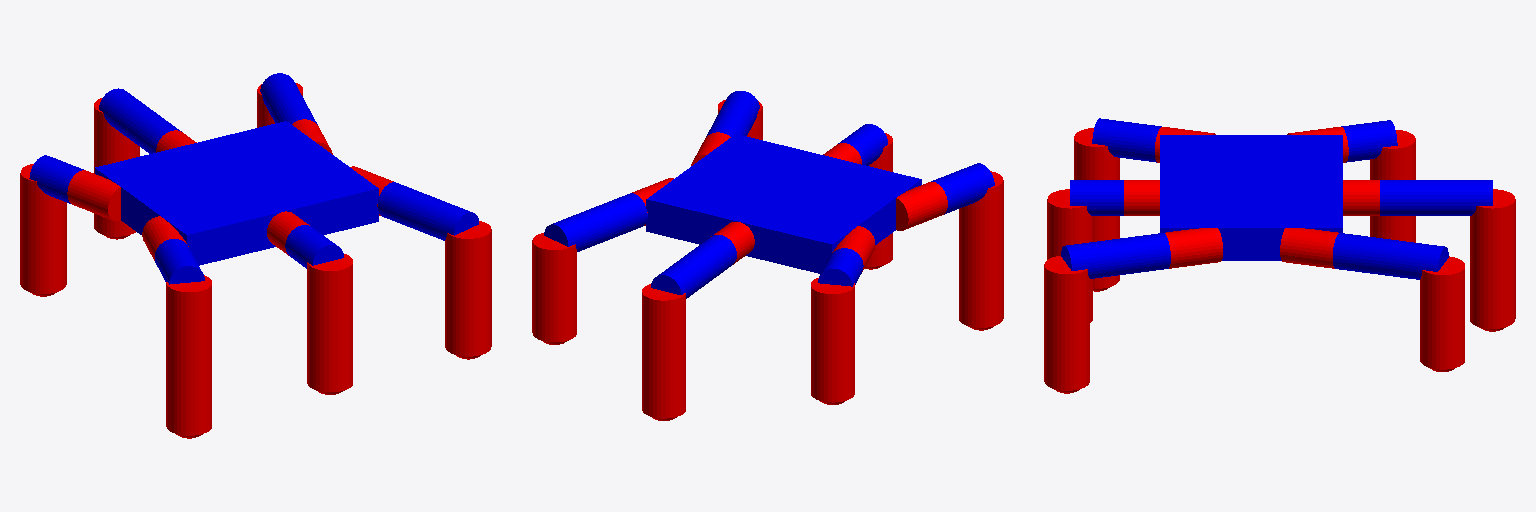
--- Render facts (derived) ---
The picture shows the robot from 3 angles, left to right: view 1: azimuth 30°, elevation 25°; view 2: azimuth 150°, elevation 25°; view 3: azimuth 270°, elevation 25°; orthographic projection.
Model pexod with 19 links and 18 joints (18 revolute), rooted at base_link, posed all joints at 0.
Links seen in each view (by area): view 1: base_link, leg_5_3, leg_4_3, leg_3_3, leg_0_3, leg_3_2, leg_1_2, leg_1_3, leg_0_1, leg_2_2, leg_4_2, leg_5_2 (+3 smaller); view 2: base_link, leg_5_3, leg_1_3, leg_0_3, leg_2_3, leg_2_2, leg_1_2, leg_5_1, leg_5_2, leg_3_2, leg_0_2, leg_4_2 (+3 smaller); view 3: base_link, leg_1_3, leg_3_3, leg_2_3, leg_1_2, leg_2_2, leg_3_2, leg_0_3, leg_5_3, leg_4_3, leg_5_2, leg_2_1 (+5 smaller).
Boxes of the visible links, box(x1,y1,x2,y2) form: base_link: box(95, 121, 378, 265); leg_5_3: box(166, 275, 211, 438); leg_4_3: box(307, 254, 352, 394); leg_3_3: box(445, 221, 491, 359); leg_0_3: box(20, 164, 66, 296); leg_3_2: box(378, 182, 478, 240); leg_1_2: box(99, 88, 181, 153); leg_1_3: box(94, 98, 139, 239); leg_0_1: box(67, 170, 120, 220); leg_2_2: box(260, 73, 317, 124); leg_4_2: box(285, 225, 343, 268); leg_5_2: box(155, 239, 204, 284); base_link: box(646, 134, 921, 273); leg_5_3: box(959, 171, 1003, 330); leg_1_3: box(642, 284, 685, 420); leg_0_3: box(811, 278, 854, 404); leg_2_3: box(532, 233, 576, 344); leg_2_2: box(544, 193, 647, 251); leg_1_2: box(651, 235, 736, 298); leg_5_1: box(896, 182, 947, 230); leg_5_2: box(931, 163, 994, 214); leg_3_2: box(706, 91, 759, 136); leg_0_2: box(818, 248, 863, 286); leg_4_2: box(838, 124, 887, 165); base_link: box(1160, 135, 1342, 260); leg_1_3: box(1470, 189, 1515, 331); leg_3_3: box(1044, 256, 1089, 393); leg_2_3: box(1420, 256, 1464, 371); leg_1_2: box(1380, 180, 1492, 215); leg_2_2: box(1333, 233, 1448, 279); leg_3_2: box(1061, 233, 1170, 278); leg_0_3: box(1370, 130, 1415, 242); leg_5_3: box(1074, 128, 1119, 291); leg_4_3: box(1047, 189, 1092, 322); leg_5_2: box(1092, 118, 1161, 162); leg_2_1: box(1280, 228, 1338, 268).
Bounding box of the posed robot: 0.3821 × 0.5157 × 0.2039 m (x, y, z).
Geometry: primitives only (box / cylinder / sphere), no mesh files.

robot.urdf — pexod:
<?xml version="1.0" ?>
<!-- =================================================================================== -->
<!-- |    This document was autogenerated by xacro from pexod.xacro                    | -->
<!-- |    EDITING THIS FILE BY HAND IS NOT RECOMMENDED                                 | -->
<!-- =================================================================================== -->
<robot name="pexod" xmlns:xacro="http://www.ros.org/wiki/xacro">
  <!-- <xacro:include filename="$(find pexod_description)/urdf/pexod_control.xacro" /> -->
  <!-- MATERIALS -->
  <material name="Blue">
    <color rgba="0 0 1 1"/>
  </material>
  <material name="Red">
    <color rgba="1 0 0 1"/>
  </material>
  <material name="Green">
    <color rgba="0 1 0 1"/>
  </material>
  <material name="Yellow">
    <color rgba="1 1 0 1"/>
  </material>
  <material name="LightGrey">
    <color rgba="0.6 0.6 0.6 1.0"/>
  </material>
  <!-- END OF MATERIALS -->
  <!-- XACRO MACROS FOR VISUALS AND COLLISIONS -->
  <!-- END OF XACRO MACROS -->
  <!-- TORSO -->
  <link name="base_link">
    <visual>
      <origin rpy="0 0 0" xyz="0 0 0"/>
      <geometry>
        <box size="0.24 0.2 0.04"/>
      </geometry>
      <material name="Blue"/>
    </visual>
    <collision>
      <origin rpy="0 0 0" xyz="0 0 0"/>
      <geometry>
        <box size="0.24 0.2 0.04"/>
      </geometry>
    </collision>
    <inertial>
      <!-- CENTER OF MASS -->
      <origin rpy="0 0 0" xyz="0 0 0"/>
      <mass value="1.031"/>
      <!-- box inertia: 1/12*m(y^2+z^2), ... -->
      <inertia ixx="0.00357413333333" ixy="0" ixz="0" iyy="0.00508626666667" iyz="0" izz="0.00838546666667"/>
    </inertial>
  </link>
  <!-- XACRO MACRO FOR LEGS LINKS/JOINTS -->
  <!-- END OF LEG LINKS/JOINTS -->
  <joint name="body_leg_2" type="revolute">
    <parent link="base_link"/>
    <child link="leg_2_1"/>
    <limit effort="30.0" lower="-1.57079632679" upper="1.57079632679" velocity="7.0"/>
    <origin rpy="0 0 -0.3" xyz="0.11 0.04 0"/>
    <!-- <xacro:if value="${index == 5 or index == 4 or index == 3}">
                <axis xyz="0 0 1"/>
            </xacro:if>
            <xacro:if value="${index == 2 or index == 1 or index == 0}"> -->
    <axis xyz="0 0 1"/>
    <!-- </xacro:if> -->
    <dynamics damping="0.0"/>
  </joint>
  <link name="leg_2_1">
    <visual>
      <origin rpy="1.57079632679 0 0" xyz="0.01 0.03 0"/>
      <geometry>
        <cylinder length="0.06" radius="0.02"/>
      </geometry>
      <material name="Red"/>
    </visual>
    <collision>
      <origin rpy="1.57079632679 0 0" xyz="0.01 0.03 0"/>
      <geometry>
        <box size="0.02 0.02 0.06"/>
      </geometry>
    </collision>
    <inertial>
      <!-- CENTER OF MASS -->
      <origin rpy="1.57079632679 0 0" xyz="0.01 0.03 0"/>
      <mass value="0.02"/>
      <!-- box inertia: 1/12*m(y^2+z^2), ... -->
      <inertia ixx="6.66666666667e-06" ixy="0" ixz="0" iyy="6.66666666667e-06" iyz="0" izz="1.33333333333e-06"/>
    </inertial>
  </link>
  <joint name="leg_2_1_2" type="revolute">
    <parent link="leg_2_1"/>
    <child link="leg_2_2"/>
    <limit effort="30.0" lower="-0.78539816339" upper="0.78539816339" velocity="7.0"/>
    <origin rpy="0 0 0" xyz="0 0.06 0"/>
    <axis xyz="1 0 0"/>
    <dynamics damping="0.0"/>
  </joint>
  <link name="leg_2_2">
    <visual>
      <origin rpy="1.57079632679 0 0" xyz="0.01 0.0604545558265 0"/>
      <geometry>
        <cylinder length="0.120909111653" radius="0.02"/>
      </geometry>
      <material name="Blue"/>
    </visual>
    <collision>
      <origin rpy="1.57079632679 0 0" xyz="0.01 0.0604545558265 0"/>
      <geometry>
        <box size="0.02 0.02 0.120909111653"/>
      </geometry>
    </collision>
    <inertial>
      <!-- CENTER OF MASS -->
      <origin rpy="1.57079632679 0 0" xyz="0.01 0.0604545558265 0"/>
      <mass value="0.184"/>
      <!-- box inertia: 1/12*m(y^2+z^2), ... -->
      <inertia ixx="0.000230291536971" ixy="0" ixz="0" iyy="0.000230291536971" iyz="0" izz="1.22666666667e-05"/>
    </inertial>
  </link>
  <joint name="leg_2_2_3" type="revolute">
    <parent link="leg_2_2"/>
    <child link="leg_2_3"/>
    <limit effort="30.0" lower="-0.78539816339" upper="0.78539816339" velocity="7.0"/>
    <origin rpy="-1.57079632679 0 0" xyz="0 0.120909111653 0"/>
    <axis xyz="-1 0 0"/>
    <dynamics damping="0.0"/>
  </joint>
  <link name="leg_2_3">
    <visual>
      <origin rpy="1.57079632679 0 0" xyz="0.0125 0.057009368967 0"/>
      <geometry>
        <cylinder length="0.114018737934" radius="0.025"/>
      </geometry>
      <material name="Red"/>
    </visual>
    <visual>
      <origin rpy="1.57079632679 0 0" xyz="0.0125 0.101518737934 0"/>
      <geometry>
        <sphere radius="0.025"/>
      </geometry>
      <material name="Red"/>
    </visual>
    <collision>
      <origin rpy="1.57079632679 0 0" xyz="0.0125 0.057009368967 0"/>
      <geometry>
        <box size="0.025 0.025 0.114018737934"/>
      </geometry>
    </collision>
    <collision>
      <origin rpy="1.57079632679 0 0" xyz="0.0125 0.101518737934 0"/>
      <geometry>
        <sphere radius="0.025"/>
      </geometry>
      <material name="Red"/>
    </collision>
    <inertial>
      <!-- CENTER OF MASS -->
      <origin rpy="1.57079632679 0 0" xyz="0.0125 0.057009368967 0"/>
      <mass value="0.04"/>
      <!-- box inertia: 1/12*m(y^2+z^2), ... -->
      <inertia ixx="4.54175753335e-05" ixy="0" ixz="0" iyy="4.54175753335e-05" iyz="0" izz="4.16666666667e-06"/>
    </inertial>
  </link>
  <joint name="body_leg_3" type="revolute">
    <parent link="base_link"/>
    <child link="leg_3_1"/>
    <limit effort="30.0" lower="-1.57079632679" upper="1.57079632679" velocity="7.0"/>
    <origin rpy="0 0 0.3" xyz="0.11 -0.04 0"/>
    <!-- <xacro:if value="${index == 5 or index == 4 or index == 3}">
                <axis xyz="0 0 1"/>
            </xacro:if>
            <xacro:if value="${index == 2 or index == 1 or index == 0}"> -->
    <axis xyz="0 0 1"/>
    <!-- </xacro:if> -->
    <dynamics damping="0.0"/>
  </joint>
  <link name="leg_3_1">
    <visual>
      <origin rpy="1.57079632679 0 0" xyz="0.01 -0.03 0"/>
      <geometry>
        <cylinder length="0.06" radius="0.02"/>
      </geometry>
      <material name="Red"/>
    </visual>
    <collision>
      <origin rpy="1.57079632679 0 0" xyz="0.01 -0.03 0"/>
      <geometry>
        <box size="0.02 0.02 0.06"/>
      </geometry>
    </collision>
    <inertial>
      <!-- CENTER OF MASS -->
      <origin rpy="1.57079632679 0 0" xyz="0.01 -0.03 0"/>
      <mass value="0.02"/>
      <!-- box inertia: 1/12*m(y^2+z^2), ... -->
      <inertia ixx="6.66666666667e-06" ixy="0" ixz="0" iyy="6.66666666667e-06" iyz="0" izz="1.33333333333e-06"/>
    </inertial>
  </link>
  <joint name="leg_3_1_2" type="revolute">
    <parent link="leg_3_1"/>
    <child link="leg_3_2"/>
    <limit effort="30.0" lower="-0.78539816339" upper="0.78539816339" velocity="7.0"/>
    <origin rpy="0 0 0" xyz="0 -0.06 0"/>
    <axis xyz="-1 0 0"/>
    <dynamics damping="0.0"/>
  </joint>
  <link name="leg_3_2">
    <visual>
      <origin rpy="1.57079632679 0 0" xyz="0.01 -0.056712124342 0"/>
      <geometry>
        <cylinder length="0.113424248684" radius="0.02"/>
      </geometry>
      <material name="Blue"/>
    </visual>
    <collision>
      <origin rpy="1.57079632679 0 0" xyz="0.01 -0.056712124342 0"/>
      <geometry>
        <box size="0.02 0.02 0.113424248684"/>
      </geometry>
    </collision>
    <inertial>
      <!-- CENTER OF MASS -->
      <origin rpy="1.57079632679 0 0" xyz="0.01 -0.056712124342 0"/>
      <mass value="0.184"/>
      <!-- box inertia: 1/12*m(y^2+z^2), ... -->
      <inertia ixx="0.000203397589573" ixy="0" ixz="0" iyy="0.000203397589573" iyz="0" izz="1.22666666667e-05"/>
    </inertial>
  </link>
  <joint name="leg_3_2_3" type="revolute">
    <parent link="leg_3_2"/>
    <child link="leg_3_3"/>
    <limit effort="30.0" lower="-0.78539816339" upper="0.78539816339" velocity="7.0"/>
    <origin rpy="1.57079632679 0 0" xyz="0 -0.113424248684 0"/>
    <axis xyz="1 0 0"/>
    <dynamics damping="0.0"/>
  </joint>
  <link name="leg_3_3">
    <visual>
      <origin rpy="1.57079632679 0 0" xyz="0.0125 -0.0703316468675 0"/>
      <geometry>
        <cylinder length="0.140663293735" radius="0.025"/>
      </geometry>
      <material name="Red"/>
    </visual>
    <visual>
      <origin rpy="1.57079632679 0 0" xyz="0.0125 -0.128163293735 0"/>
      <geometry>
        <sphere radius="0.025"/>
      </geometry>
      <material name="Red"/>
    </visual>
    <collision>
      <origin rpy="1.57079632679 0 0" xyz="0.0125 -0.0703316468675 0"/>
      <geometry>
        <box size="0.025 0.025 0.140663293735"/>
      </geometry>
    </collision>
    <collision>
      <origin rpy="1.57079632679 0 0" xyz="0.0125 -0.128163293735 0"/>
      <geometry>
        <sphere radius="0.025"/>
      </geometry>
      <material name="Red"/>
    </collision>
    <inertial>
      <!-- CENTER OF MASS -->
      <origin rpy="1.57079632679 0 0" xyz="0.0125 -0.0703316468675 0"/>
      <mass value="0.04"/>
      <!-- box inertia: 1/12*m(y^2+z^2), ... -->
      <inertia ixx="6.80372073479e-05" ixy="0" ixz="0" iyy="6.80372073479e-05" iyz="0" izz="4.16666666667e-06"/>
    </inertial>
  </link>
  <joint name="body_leg_0" type="revolute">
    <parent link="base_link"/>
    <child link="leg_0_1"/>
    <limit effort="30.0" lower="-1.57079632679" upper="1.57079632679" velocity="7.0"/>
    <origin rpy="0 0 0.3" xyz="-0.13 0.04 0"/>
    <!-- <xacro:if value="${index == 5 or index == 4 or index == 3}">
                <axis xyz="0 0 1"/>
            </xacro:if>
            <xacro:if value="${index == 2 or index == 1 or index == 0}"> -->
    <axis xyz="0 0 1"/>
    <!-- </xacro:if> -->
    <dynamics damping="0.0"/>
  </joint>
  <link name="leg_0_1">
    <visual>
      <origin rpy="1.57079632679 0 0" xyz="0.01 0.03 0"/>
      <geometry>
        <cylinder length="0.06" radius="0.02"/>
      </geometry>
      <material name="Red"/>
    </visual>
    <collision>
      <origin rpy="1.57079632679 0 0" xyz="0.01 0.03 0"/>
      <geometry>
        <box size="0.02 0.02 0.06"/>
      </geometry>
    </collision>
    <inertial>
      <!-- CENTER OF MASS -->
      <origin rpy="1.57079632679 0 0" xyz="0.01 0.03 0"/>
      <mass value="0.02"/>
      <!-- box inertia: 1/12*m(y^2+z^2), ... -->
      <inertia ixx="6.66666666667e-06" ixy="0" ixz="0" iyy="6.66666666667e-06" iyz="0" izz="1.33333333333e-06"/>
    </inertial>
  </link>
  <joint name="leg_0_1_2" type="revolute">
    <parent link="leg_0_1"/>
    <child link="leg_0_2"/>
    <limit effort="30.0" lower="-0.78539816339" upper="0.78539816339" velocity="7.0"/>
    <origin rpy="0 0 0" xyz="0 0.06 0"/>
    <axis xyz="1 0 0"/>
    <dynamics damping="0.0"/>
  </joint>
  <link name="leg_0_2">
    <visual>
      <origin rpy="1.57079632679 0 0" xyz="0.01 0.0280122307104 0"/>
      <geometry>
        <cylinder length="0.0560244614207" radius="0.02"/>
      </geometry>
      <material name="Blue"/>
    </visual>
    <collision>
      <origin rpy="1.57079632679 0 0" xyz="0.01 0.0280122307104 0"/>
      <geometry>
        <box size="0.02 0.02 0.0560244614207"/>
      </geometry>
    </collision>
    <inertial>
      <!-- CENTER OF MASS -->
      <origin rpy="1.57079632679 0 0" xyz="0.01 0.0280122307104 0"/>
      <mass value="0.184"/>
      <!-- box inertia: 1/12*m(y^2+z^2), ... -->
      <inertia ixx="5.42606842547e-05" ixy="0" ixz="0" iyy="5.42606842547e-05" iyz="0" izz="1.22666666667e-05"/>
    </inertial>
  </link>
  <joint name="leg_0_2_3" type="revolute">
    <parent link="leg_0_2"/>
    <child link="leg_0_3"/>
    <limit effort="30.0" lower="-0.78539816339" upper="0.78539816339" velocity="7.0"/>
    <origin rpy="-1.57079632679 0 0" xyz="0 0.0560244614207 0"/>
    <axis xyz="-1 0 0"/>
    <dynamics damping="0.0"/>
  </joint>
  <link name="leg_0_3">
    <visual>
      <origin rpy="1.57079632679 0 0" xyz="0.0125 0.0669087497605 0"/>
      <geometry>
        <cylinder length="0.133817499521" radius="0.025"/>
      </geometry>
      <material name="Red"/>
    </visual>
    <visual>
      <origin rpy="1.57079632679 0 0" xyz="0.0125 0.121317499521 0"/>
      <geometry>
        <sphere radius="0.025"/>
      </geometry>
      <material name="Red"/>
    </visual>
    <collision>
      <origin rpy="1.57079632679 0 0" xyz="0.0125 0.0669087497605 0"/>
      <geometry>
        <box size="0.025 0.025 0.133817499521"/>
      </geometry>
    </collision>
    <collision>
      <origin rpy="1.57079632679 0 0" xyz="0.0125 0.121317499521 0"/>
      <geometry>
        <sphere radius="0.025"/>
      </geometry>
      <material name="Red"/>
    </collision>
    <inertial>
      <!-- CENTER OF MASS -->
      <origin rpy="1.57079632679 0 0" xyz="0.0125 0.0669087497605 0"/>
      <mass value="0.04"/>
      <!-- box inertia: 1/12*m(y^2+z^2), ... -->
      <inertia ixx="6.17737439268e-05" ixy="0" ixz="0" iyy="6.17737439268e-05" iyz="0" izz="4.16666666667e-06"/>
    </inertial>
  </link>
  <joint name="body_leg_5" type="revolute">
    <parent link="base_link"/>
    <child link="leg_5_1"/>
    <limit effort="30.0" lower="-1.57079632679" upper="1.57079632679" velocity="7.0"/>
    <origin rpy="0 0 -0.3" xyz="-0.13 -0.04 0"/>
    <!-- <xacro:if value="${index == 5 or index == 4 or index == 3}">
                <axis xyz="0 0 1"/>
            </xacro:if>
            <xacro:if value="${index == 2 or index == 1 or index == 0}"> -->
    <axis xyz="0 0 1"/>
    <!-- </xacro:if> -->
    <dynamics damping="0.0"/>
  </joint>
  <link name="leg_5_1">
    <visual>
      <origin rpy="1.57079632679 0 0" xyz="0.01 -0.03 0"/>
      <geometry>
        <cylinder length="0.06" radius="0.02"/>
      </geometry>
      <material name="Red"/>
    </visual>
    <collision>
      <origin rpy="1.57079632679 0 0" xyz="0.01 -0.03 0"/>
      <geometry>
        <box size="0.02 0.02 0.06"/>
      </geometry>
    </collision>
    <inertial>
      <!-- CENTER OF MASS -->
      <origin rpy="1.57079632679 0 0" xyz="0.01 -0.03 0"/>
      <mass value="0.02"/>
      <!-- box inertia: 1/12*m(y^2+z^2), ... -->
      <inertia ixx="6.66666666667e-06" ixy="0" ixz="0" iyy="6.66666666667e-06" iyz="0" izz="1.33333333333e-06"/>
    </inertial>
  </link>
  <joint name="leg_5_1_2" type="revolute">
    <parent link="leg_5_1"/>
    <child link="leg_5_2"/>
    <limit effort="30.0" lower="-0.78539816339" upper="0.78539816339" velocity="7.0"/>
    <origin rpy="0 0 0" xyz="0 -0.06 0"/>
    <axis xyz="-1 0 0"/>
    <dynamics damping="0.0"/>
  </joint>
  <link name="leg_5_2">
    <visual>
      <origin rpy="1.57079632679 0 0" xyz="0.01 -0.0357790762543 0"/>
      <geometry>
        <cylinder length="0.0715581525085" radius="0.02"/>
      </geometry>
      <material name="Blue"/>
    </visual>
    <collision>
      <origin rpy="1.57079632679 0 0" xyz="0.01 -0.0357790762543 0"/>
      <geometry>
        <box size="0.02 0.02 0.0715581525085"/>
      </geometry>
    </collision>
    <inertial>
      <!-- CENTER OF MASS -->
      <origin rpy="1.57079632679 0 0" xyz="0.01 -0.0357790762543 0"/>
      <mass value="0.184"/>
      <!-- box inertia: 1/12*m(y^2+z^2), ... -->
      <inertia ixx="8.46487275866e-05" ixy="0" ixz="0" iyy="8.46487275866e-05" iyz="0" izz="1.22666666667e-05"/>
    </inertial>
  </link>
  <joint name="leg_5_2_3" type="revolute">
    <parent link="leg_5_2"/>
    <child link="leg_5_3"/>
    <limit effort="30.0" lower="-0.78539816339" upper="0.78539816339" velocity="7.0"/>
    <origin rpy="1.57079632679 0 0" xyz="0 -0.0715581525085 0"/>
    <axis xyz="1 0 0"/>
    <dynamics damping="0.0"/>
  </joint>
  <link name="leg_5_3">
    <visual>
      <origin rpy="1.57079632679 0 0" xyz="0.0125 -0.085693704758 0"/>
      <geometry>
        <cylinder length="0.171387409516" radius="0.025"/>
      </geometry>
      <material name="Red"/>
    </visual>
    <visual>
      <origin rpy="1.57079632679 0 0" xyz="0.0125 -0.158887409516 0"/>
      <geometry>
        <sphere radius="0.025"/>
      </geometry>
      <material name="Red"/>
    </visual>
    <collision>
      <origin rpy="1.57079632679 0 0" xyz="0.0125 -0.085693704758 0"/>
      <geometry>
        <box size="0.025 0.025 0.171387409516"/>
      </geometry>
    </collision>
    <collision>
      <origin rpy="1.57079632679 0 0" xyz="0.0125 -0.158887409516 0"/>
      <geometry>
        <sphere radius="0.025"/>
      </geometry>
      <material name="Red"/>
    </collision>
    <inertial>
      <!-- CENTER OF MASS -->
      <origin rpy="1.57079632679 0 0" xyz="0.0125 -0.085693704758 0"/>
      <mass value="0.04"/>
      <!-- box inertia: 1/12*m(y^2+z^2), ... -->
      <inertia ixx="9.99954804687e-05" ixy="0" ixz="0" iyy="9.99954804687e-05" iyz="0" izz="4.16666666667e-06"/>
    </inertial>
  </link>
  <joint name="body_leg_1" type="revolute">
    <parent link="base_link"/>
    <child link="leg_1_1"/>
    <limit effort="30.0" lower="-1.57079632679" upper="1.57079632679" velocity="7.0"/>
    <origin rpy="0 0 0" xyz="-0.01 0.08 0"/>
    <!-- <xacro:if value="${index == 5 or index == 4 or index == 3}">
                <axis xyz="0 0 1"/>
            </xacro:if>
            <xacro:if value="${index == 2 or index == 1 or index == 0}"> -->
    <axis xyz="0 0 1"/>
    <!-- </xacro:if> -->
    <dynamics damping="0.0"/>
  </joint>
  <link name="leg_1_1">
    <visual>
      <origin rpy="1.57079632679 0 0" xyz="0.01 0.03 0"/>
      <geometry>
        <cylinder length="0.06" radius="0.02"/>
      </geometry>
      <material name="Red"/>
    </visual>
    <collision>
      <origin rpy="1.57079632679 0 0" xyz="0.01 0.03 0"/>
      <geometry>
        <box size="0.02 0.02 0.06"/>
      </geometry>
    </collision>
    <inertial>
      <!-- CENTER OF MASS -->
      <origin rpy="1.57079632679 0 0" xyz="0.01 0.03 0"/>
      <mass value="0.02"/>
      <!-- box inertia: 1/12*m(y^2+z^2), ... -->
      <inertia ixx="6.66666666667e-06" ixy="0" ixz="0" iyy="6.66666666667e-06" iyz="0" izz="1.33333333333e-06"/>
    </inertial>
  </link>
  <joint name="leg_1_1_2" type="revolute">
    <parent link="leg_1_1"/>
    <child link="leg_1_2"/>
    <limit effort="30.0" lower="-0.78539816339" upper="0.78539816339" velocity="7.0"/>
    <origin rpy="0 0 0" xyz="0 0.06 0"/>
    <axis xyz="1 0 0"/>
    <dynamics damping="0.0"/>
  </joint>
  <link name="leg_1_2">
    <visual>
      <origin rpy="1.57079632679 0 0" xyz="0.01 0.061910940545 0"/>
      <geometry>
        <cylinder length="0.12382188109" radius="0.02"/>
      </geometry>
      <material name="Blue"/>
    </visual>
    <collision>
      <origin rpy="1.57079632679 0 0" xyz="0.01 0.061910940545 0"/>
      <geometry>
        <box size="0.02 0.02 0.12382188109"/>
      </geometry>
    </collision>
    <inertial>
      <!-- CENTER OF MASS -->
      <origin rpy="1.57079632679 0 0" xyz="0.01 0.061910940545 0"/>
      <mass value="0.184"/>
      <!-- box inertia: 1/12*m(y^2+z^2), ... -->
      <inertia ixx="0.000241221826296" ixy="0" ixz="0" iyy="0.000241221826296" iyz="0" izz="1.22666666667e-05"/>
    </inertial>
  </link>
  <joint name="leg_1_2_3" type="revolute">
    <parent link="leg_1_2"/>
    <child link="leg_1_3"/>
    <limit effort="30.0" lower="-0.78539816339" upper="0.78539816339" velocity="7.0"/>
    <origin rpy="-1.57079632679 0 0" xyz="0 0.12382188109 0"/>
    <axis xyz="-1 0 0"/>
    <dynamics damping="0.0"/>
  </joint>
  <link name="leg_1_3">
    <visual>
      <origin rpy="1.57079632679 0 0" xyz="0.0125 0.072776803563 0"/>
      <geometry>
        <cylinder length="0.145553607126" radius="0.025"/>
      </geometry>
      <material name="Red"/>
    </visual>
    <visual>
      <origin rpy="1.57079632679 0 0" xyz="0.0125 0.133053607126 0"/>
      <geometry>
        <sphere radius="0.025"/>
      </geometry>
      <material name="Red"/>
    </visual>
    <collision>
      <origin rpy="1.57079632679 0 0" xyz="0.0125 0.072776803563 0"/>
      <geometry>
        <box size="0.025 0.025 0.145553607126"/>
      </geometry>
    </collision>
    <collision>
      <origin rpy="1.57079632679 0 0" xyz="0.0125 0.133053607126 0"/>
      <geometry>
        <sphere radius="0.025"/>
      </geometry>
      <material name="Red"/>
    </collision>
    <inertial>
      <!-- CENTER OF MASS -->
      <origin rpy="1.57079632679 0 0" xyz="0.0125 0.072776803563 0"/>
      <mass value="0.04"/>
      <!-- box inertia: 1/12*m(y^2+z^2), ... -->
      <inertia ixx="7.27028418246e-05" ixy="0" ixz="0" iyy="7.27028418246e-05" iyz="0" izz="4.16666666667e-06"/>
    </inertial>
  </link>
  <joint name="body_leg_4" type="revolute">
    <parent link="base_link"/>
    <child link="leg_4_1"/>
    <limit effort="30.0" lower="-1.57079632679" upper="1.57079632679" velocity="7.0"/>
    <origin rpy="0 0 0" xyz="-0.01 -0.08 0"/>
    <!-- <xacro:if value="${index == 5 or index == 4 or index == 3}">
                <axis xyz="0 0 1"/>
            </xacro:if>
            <xacro:if value="${index == 2 or index == 1 or index == 0}"> -->
    <axis xyz="0 0 1"/>
    <!-- </xacro:if> -->
    <dynamics damping="0.0"/>
  </joint>
  <link name="leg_4_1">
    <visual>
      <origin rpy="1.57079632679 0 0" xyz="0.01 -0.03 0"/>
      <geometry>
        <cylinder length="0.06" radius="0.02"/>
      </geometry>
      <material name="Red"/>
    </visual>
    <collision>
      <origin rpy="1.57079632679 0 0" xyz="0.01 -0.03 0"/>
      <geometry>
        <box size="0.02 0.02 0.06"/>
      </geometry>
    </collision>
    <inertial>
      <!-- CENTER OF MASS -->
      <origin rpy="1.57079632679 0 0" xyz="0.01 -0.03 0"/>
      <mass value="0.02"/>
      <!-- box inertia: 1/12*m(y^2+z^2), ... -->
      <inertia ixx="6.66666666667e-06" ixy="0" ixz="0" iyy="6.66666666667e-06" iyz="0" izz="1.33333333333e-06"/>
    </inertial>
  </link>
  <joint name="leg_4_1_2" type="revolute">
    <parent link="leg_4_1"/>
    <child link="leg_4_2"/>
    <limit effort="30.0" lower="-0.78539816339" upper="0.78539816339" velocity="7.0"/>
    <origin rpy="0 0 0" xyz="0 -0.06 0"/>
    <axis xyz="-1 0 0"/>
    <dynamics damping="0.0"/>
  </joint>
  <link name="leg_4_2">
    <visual>
      <origin rpy="1.57079632679 0 0" xyz="0.01 -0.0293164203056 0"/>
      <geometry>
        <cylinder length="0.0586328406112" radius="0.02"/>
      </geometry>
      <material name="Blue"/>
    </visual>
    <collision>
      <origin rpy="1.57079632679 0 0" xyz="0.01 -0.0293164203056 0"/>
      <geometry>
        <box size="0.02 0.02 0.0586328406112"/>
      </geometry>
    </collision>
    <inertial>
      <!-- CENTER OF MASS -->
      <origin rpy="1.57079632679 0 0" xyz="0.01 -0.0293164203056 0"/>
      <mass value="0.184"/>
      <!-- box inertia: 1/12*m(y^2+z^2), ... -->
      <inertia ixx="5.88464199715e-05" ixy="0" ixz="0" iyy="5.88464199715e-05" iyz="0" izz="1.22666666667e-05"/>
    </inertial>
  </link>
  <joint name="leg_4_2_3" type="revolute">
    <parent link="leg_4_2"/>
    <child link="leg_4_3"/>
    <limit effort="30.0" lower="-0.78539816339" upper="0.78539816339" velocity="7.0"/>
    <origin rpy="1.57079632679 0 0" xyz="0 -0.0586328406112 0"/>
    <axis xyz="1 0 0"/>
    <dynamics damping="0.0"/>
  </joint>
  <link name="leg_4_3">
    <visual>
      <origin rpy="1.57079632679 0 0" xyz="0.0125 -0.0725062966215 0"/>
      <geometry>
        <cylinder length="0.145012593243" radius="0.025"/>
      </geometry>
      <material name="Red"/>
    </visual>
    <visual>
      <origin rpy="1.57079632679 0 0" xyz="0.0125 -0.132512593243 0"/>
      <geometry>
        <sphere radius="0.025"/>
      </geometry>
      <material name="Red"/>
    </visual>
    <collision>
      <origin rpy="1.57079632679 0 0" xyz="0.0125 -0.0725062966215 0"/>
      <geometry>
        <box size="0.025 0.025 0.145012593243"/>
      </geometry>
    </collision>
    <collision>
      <origin rpy="1.57079632679 0 0" xyz="0.0125 -0.132512593243 0"/>
      <geometry>
        <sphere radius="0.025"/>
      </geometry>
      <material name="Red"/>
    </collision>
    <inertial>
      <!-- CENTER OF MASS -->
      <origin rpy="1.57079632679 0 0" xyz="0.0125 -0.0725062966215 0"/>
      <mass value="0.04"/>
      <!-- box inertia: 1/12*m(y^2+z^2), ... -->
      <inertia ixx="7.21788406635e-05" ixy="0" ixz="0" iyy="7.21788406635e-05" iyz="0" izz="4.16666666667e-06"/>
    </inertial>
  </link>
  <!-- END OF LEG LINKS/JOINTS -->
</robot>
